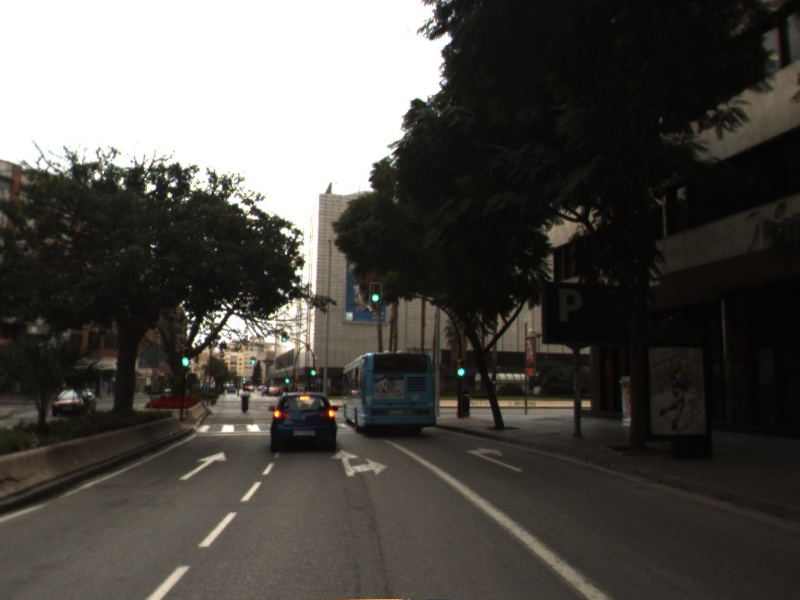RIGHT: (464, 444, 526, 474)
STRAIGHT: (177, 449, 229, 482)
STRAIGHT_RIGHT: (328, 447, 390, 479)
